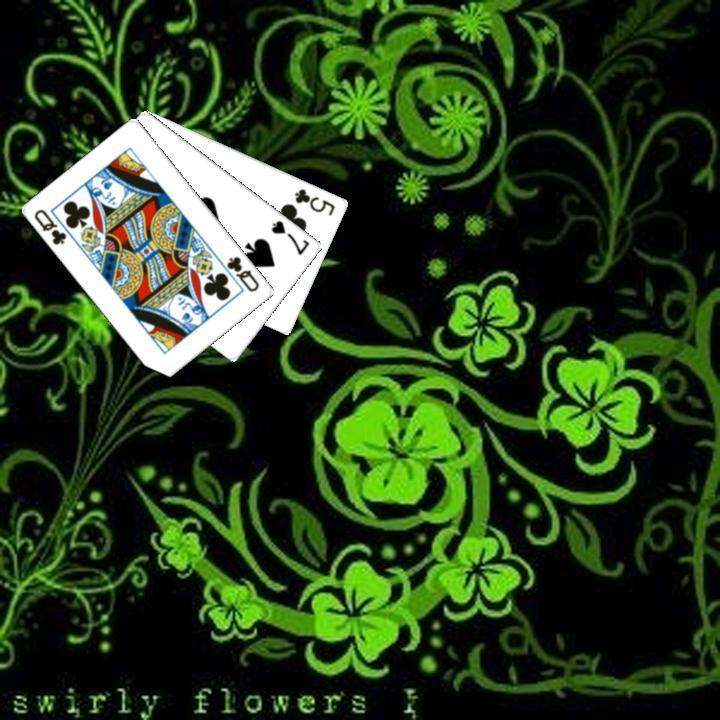5: (291, 184, 338, 217)
7: (267, 216, 312, 257)
Q: (222, 252, 262, 294), (30, 205, 69, 247)
